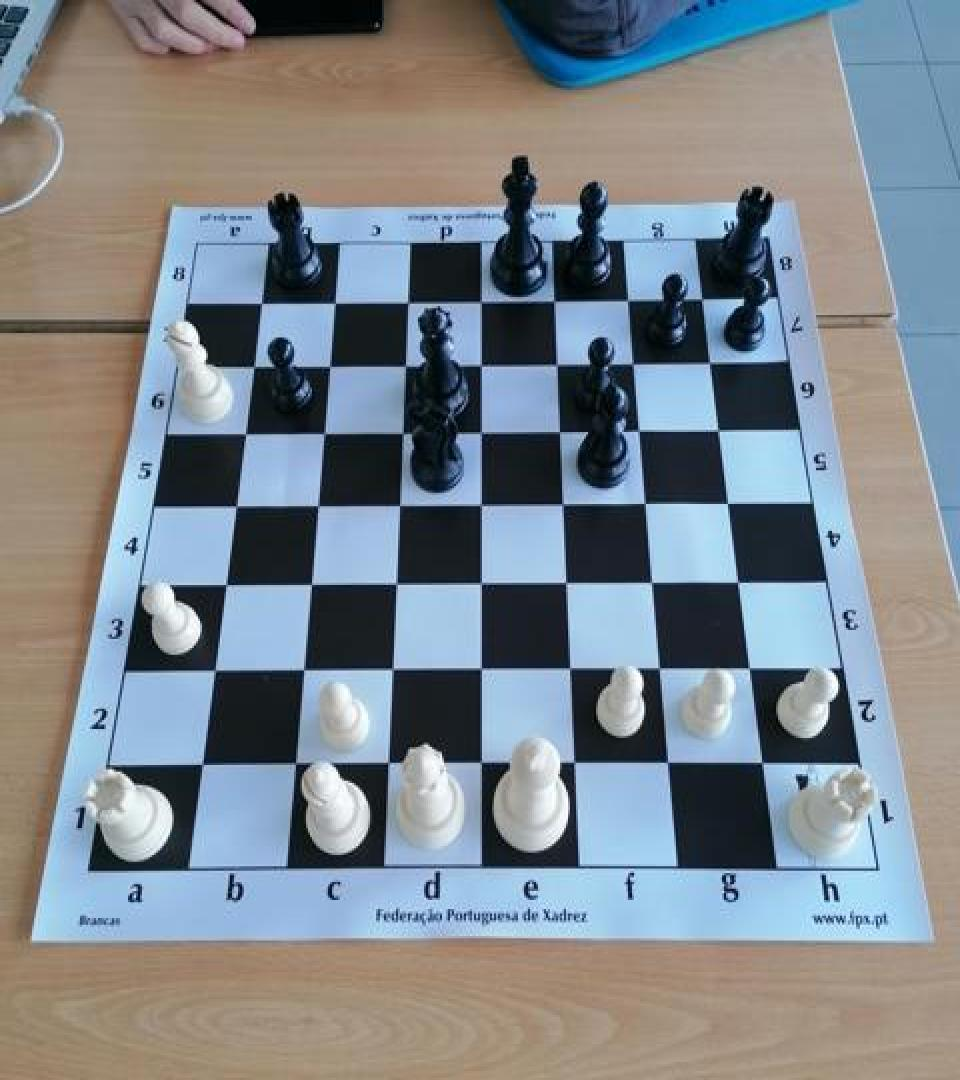xcorner: (198, 653, 230, 690), (288, 652, 320, 689), (378, 652, 410, 689), (468, 652, 500, 689), (558, 652, 590, 689), (245, 284, 277, 320), (237, 346, 269, 382), (228, 414, 260, 450), (219, 488, 251, 524), (209, 567, 241, 603), (186, 747, 218, 783), (319, 284, 351, 320), (314, 346, 346, 382), (308, 414, 340, 450), (302, 487, 334, 523), (295, 567, 327, 603), (280, 747, 312, 783), (393, 284, 425, 320), (390, 346, 422, 382), (388, 414, 420, 450), (385, 487, 417, 523), (381, 567, 413, 603), (374, 747, 406, 783), (467, 284, 499, 320), (467, 346, 499, 382), (467, 414, 499, 450), (467, 487, 499, 523), (468, 566, 500, 602), (468, 747, 500, 783), (541, 282, 573, 318), (544, 346, 576, 382), (547, 413, 579, 449), (550, 487, 582, 523), (554, 566, 586, 602), (562, 746, 594, 782), (615, 282, 647, 318), (620, 346, 652, 382), (627, 413, 659, 449), (633, 486, 665, 522), (640, 566, 672, 602), (648, 652, 680, 688), (657, 746, 689, 782), (689, 282, 721, 318), (697, 346, 729, 382), (706, 413, 738, 449), (716, 486, 748, 522), (727, 566, 759, 602), (738, 652, 770, 688), (751, 746, 783, 782)
